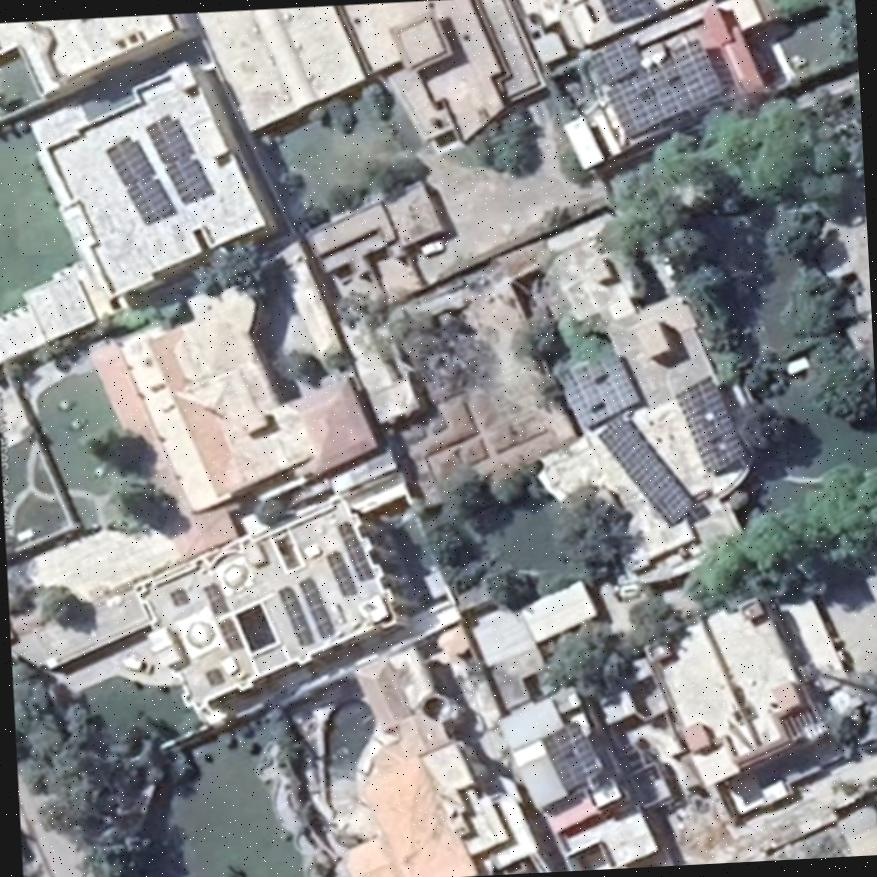Solarpanel: (606, 39, 721, 133), (600, 414, 696, 525), (557, 347, 641, 427), (675, 376, 741, 472), (146, 115, 211, 202), (107, 138, 172, 220), (540, 720, 602, 792), (590, 32, 643, 81), (602, 0, 641, 14)
